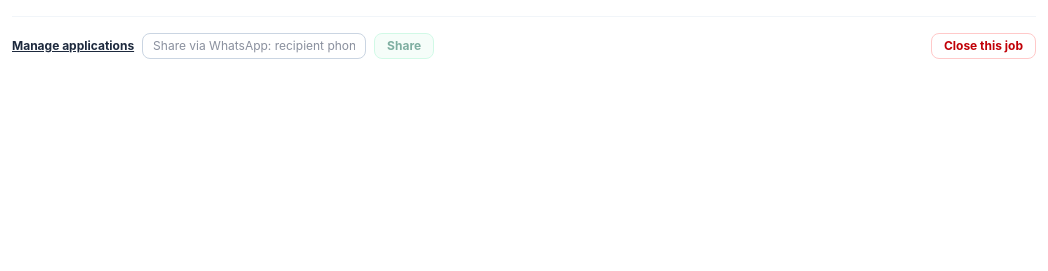
Scenario: careers client components › shows applicant CV download, experience, and verified Oaziland certificates to the employer
This screenshot has width=1048, height=271.
Click the button "Manage applications". click: [73, 46]
box: [12,38,134,54]
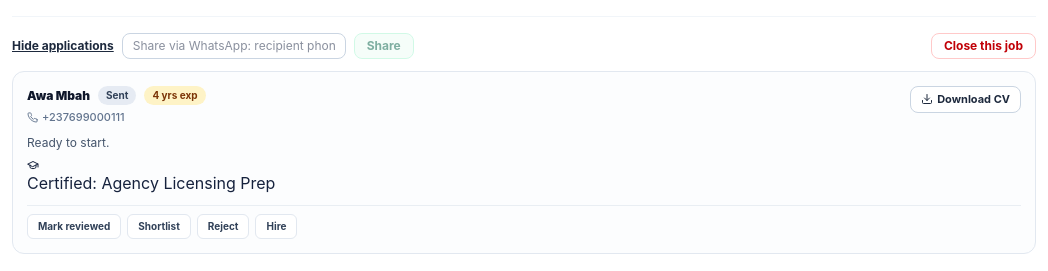
Check: the text "Awa Mbah" is shown, box [27,88,90,104]
Check: the text "4 yrs exp" is shown, box [144,86,206,105]
Check: the text "+237699000111" is shown, box [27,109,125,126]
